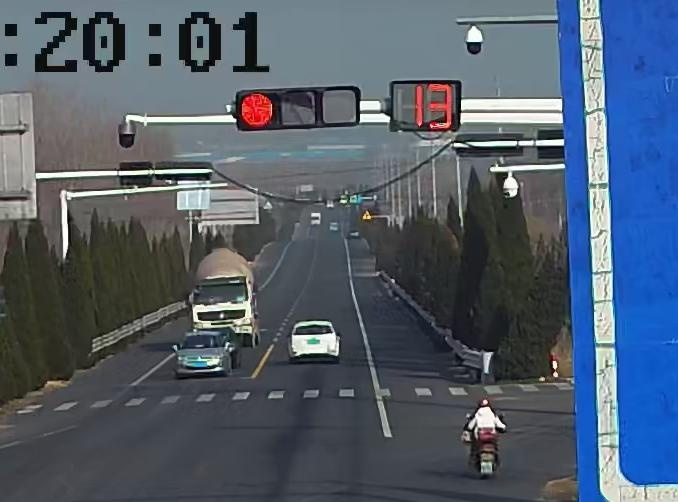red: (239, 91, 276, 129)
redtime: (412, 81, 456, 130)
